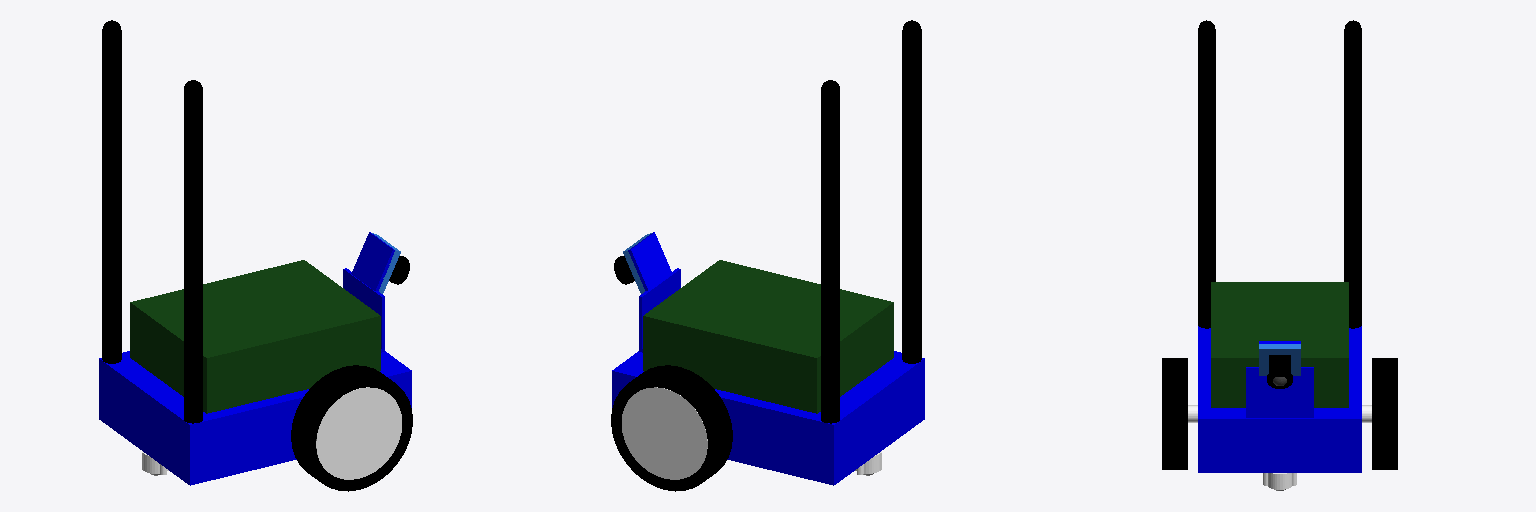
robot.urdf — jetbot:
<?xml version="1.0"?>
<robot name="jetbot">

<!-- material (color) -->
  <material name="black">
    <color rgba="0 0 0 1"/>
  </material>
  <material name="white">
    <color rgba="1.0 1.0 1.0 1.0"/>
  </material>
  <material name="blue">
    <color rgba="0 0 1 0.2"/>
  </material> 
  <material name="grey">
    <color rgba="0.66 0.66 0.66 1"/>
  </material>    
  <material name="soft_blue">
    <color rgba="0.2157 0.5294 0.9216 1"/>
  </material>
  <material name="grey_alpha">
    <color rgba="0.3 0.3 0.3 0.4"/>
  </material>   
  <material name="green">
    <color rgba="0.1 0.3 0.1 0.8"/>
  </material>     

<!-- CHASSIS (body) -->
  <link name="base_link">
    <visual>
      <origin rpy="0 0 0" xyz="0 0 0.013"/>
      <geometry>
        <box size="0.134 0.095 0.035"/>
      </geometry>
      <material name="blue"/>
    </visual>
  </link>




<!-- WHEELS -->
<!-- Left wheel -->
  <link name="lt_wheel_shaft">
    <visual>
      <geometry>
        <cylinder length="0.015" radius="0.005"/>
      </geometry>
      <material name="white"/>
      <origin rpy="1.57079632679 0 0" xyz="0 0 0"/>  -->    
    </visual>
  </link> 
  <joint name="base_lt_wheel_shaft_joint" type="fixed">
    <parent link="base_link"/>
    <child link="lt_wheel_shaft"/>
    <origin xyz="0.023 0.048 0.013"/>
  </joint>

  <link name="lt_wheelc">
    <visual>
      <origin rpy="1.57079632679 0 0"/>
      <geometry>
        <cylinder length="0.015" radius="0.026"/>
      </geometry>
      <material name="white"/>
    </visual>
  </link>
  <joint name="lt_shaft_wheelc_joint" type="fixed">
    <origin xyz="0 0.013 0"/>    
    <parent link="lt_wheel_shaft"/>
    <child link="lt_wheelc"/>
  </joint>

  <link name="lt_wheel">
    <visual>
    <origin rpy="1.57079632679 0 0"/>    
      <geometry>
        <cylinder length="0.015" radius="0.0325"/>
      </geometry>
      <material name="black"/>
    </visual>
  </link>
  <joint name="lt_wheelc_wheel_joint" type="continuous">
    <axis xyz ="0 1 0" />
    <parent link="lt_wheelc"/>
    <child link="lt_wheel"/>
    <origin xyz="0 -0.0001 0"/>  
  </joint>  


<!-- Right Wheel -->
  <link name="rt_wheel_shaft">
    <visual>
      <geometry>
        <cylinder length="0.015" radius="0.005"/>
      </geometry>
      <material name="white"/>
      <origin rpy="1.57079632679 0 0" xyz="0 0 0"/>  -->    
    </visual>
  </link> 
  <joint name="base_rt_wheel_shaft_joint" type="fixed">
    <parent link="base_link"/>
    <child link="rt_wheel_shaft"/>
    <origin xyz="0.023 -0.048 0.013"/>
  </joint>

  <link name="rt_wheelc">
    <visual>
      <origin rpy="1.57079632679 0 0"/>
      <geometry>
        <cylinder length="0.015" radius="0.026"/>
      </geometry>
      <material name="white"/>
    </visual>
  </link>
  <joint name="rt_shaft_wheelc_joint" type="fixed">
    <origin xyz="0 -0.013 0"/>    
    <parent link="rt_wheel_shaft"/>
    <child link="rt_wheelc"/>
  </joint>

  <link name="rt_wheel">
    <visual>
    <origin rpy="1.57079632679 0 0"/>    
      <geometry>
        <cylinder length="0.015" radius="0.0325"/>
      </geometry>
      <material name="black"/>
    </visual>
  </link>
  <joint name="rt_wheelc_wheel_joint" type="continuous">
    <axis xyz ="0 1 0" />
    <parent link="rt_wheelc"/>
    <child link="rt_wheel"/>
    <origin xyz="0 0.0001 0"/>  
  </joint>  



<!-- CASTER WHEELS -->
<!-- Front caster -->
  <link name="front_caster_base">
    <visual>
      <geometry>
        <cylinder length="0.01" radius="0.0075"/>
      </geometry>
      <material name="white"/>
    </visual>
  </link>
  <joint name="base_front_caster_joint" type="fixed">
    <origin xyz="0.06 0 -0.01"/>  
    <parent link="base_link"/>
    <child link="front_caster_base"/>
  </joint>

  <link name="front_caster_lt_cyl">
    <visual>
      <geometry>
        <cylinder length="0.01" radius="0.002"/>
      </geometry>
      <material name="white"/>
    </visual>
  </link>
  <joint name="front_caster_lt_cyl_joint" type="fixed">
    <origin xyz="0 0.008 0"/>  
    <parent link="front_caster_base"/>
    <child link="front_caster_lt_cyl"/>
  </joint>

  <link name="front_caster_rt_cyl">
    <visual>
      <geometry>
        <cylinder length="0.01" radius="0.002"/>
      </geometry>
      <material name="white"/>
    </visual>
  </link>
  <joint name="front_caster_rt_cyl_joint" type="fixed">
    <origin xyz="0 -0.008 0"/>  
    <parent link="front_caster_base"/>
    <child link="front_caster_rt_cyl"/>
  </joint>

  <link name="front_caster_ball">
    <visual>
      <geometry>
        <sphere radius="0.005" />
      </geometry>
      <material name="grey"/>
    </visual>
  </link>
  <joint name="front_caster_ball_joint" type="continuous">
    <axis xyz="0 1 0" rpy="0 0 0" />
    <parent link="front_caster_base"/>
    <child link="front_caster_ball"/>
    <origin xyz="0 0 -0.004"/>
  </joint>



<!-- Back caster -->
  <link name="back_caster_base">
    <visual>
      <geometry>
        <cylinder length="0.01" radius="0.0075"/>
      </geometry>
      <material name="white"/>
    </visual>
  </link>
  <joint name="base_back_caster_joint" type="fixed">
    <origin xyz="-0.06 0 -0.01"/>  
    <parent link="base_link"/>
    <child link="back_caster_base"/>
  </joint>

  <link name="back_caster_lt_cyl">
    <visual>
      <geometry>
        <cylinder length="0.01" radius="0.002"/>
      </geometry>
      <material name="white"/>
    </visual>
  </link>
  <joint name="back_caster_lt_cyl_joint" type="fixed">
    <origin xyz="0 0.008 0"/>  
    <parent link="back_caster_base"/>
    <child link="back_caster_lt_cyl"/>
  </joint>

  <link name="back_caster_rt_cyl">
    <visual>
      <geometry>
        <cylinder length="0.01" radius="0.002"/>
      </geometry>
      <material name="white"/>
    </visual>
  </link>
  <joint name="back_caster_rt_cyl_joint" type="fixed">
    <origin xyz="0 -0.008 0"/>  
    <parent link="back_caster_base"/>
    <child link="back_caster_rt_cyl"/>
  </joint>

  <link name="back_caster_ball">
    <visual>
      <geometry>
        <sphere radius="0.005" />
      </geometry>
      <material name="grey"/>
    </visual>
  </link>
  <joint name="back_caster_ball_joint" type="continuous">
    <axis xyz="0 1 0" rpy="0 0 0" />
    <parent link="back_caster_base"/>
    <child link="back_caster_ball"/>
    <origin xyz="0 0 -0.004"/>
  </joint>

<!-- ANTENNAS -->
<!-- Left Antenna -->
  <link name="lt_antenna">
    <visual>
      <origin xyz="0 0 0.095"/>
      <geometry>
        <cylinder length="0.19" radius="0.005"/>
      </geometry>
      <material name="black"/>      
    </visual>
  </link>
  <joint name="base_lt_antenna_joint" type="fixed">
    <parent link="base_link"/>
    <child link="lt_antenna"/>
    <origin xyz="-0.062 0.0425 0.0305"/>
  </joint>

  <link name="lt_antenna_top">
    <visual>
      <geometry>
        <sphere radius="0.005"/>
      </geometry> 
      <material name="black"/>
    </visual>
  </link>
  <joint name="lt_antenna_top_joint" type="fixed">
    <origin xyz="0 0 0.19"/>
    <parent link="lt_antenna"/>
    <child link="lt_antenna_top"/>
  </joint>




<!-- Right Antenna -->
  <link name="rt_antenna">
    <visual>
      <origin xyz="0 0 0.095"/>
      <geometry>
        <cylinder length="0.19" radius="0.005"/>
      </geometry>
      <material name="black"/>      
    </visual>
  </link>
  <joint name="base_rt_antenna_joint" type="fixed">
    <parent link="base_link"/>
    <child link="rt_antenna"/>
    <origin xyz="-0.062 -0.0425 0.0305"/>
  </joint>

  <link name="rt_antenna_top">
    <visual>
      <geometry>
        <sphere radius="0.005"/>
      </geometry> 
      <material name="black"/>
    </visual>
  </link>
  <joint name="rt_antenna_top_joint" type="fixed">
    <origin xyz="0 0 0.19"/>
    <parent link="rt_antenna"/>
    <child link="rt_antenna_top"/>
  </joint>




<!-- CAMERA -->
  <link name="camera_mount_base">
    <visual>
      <geometry>
        <box size="0.01 0.04 0.002"/>
      </geometry>
      <material name="blue"/>
    </visual>
  </link>
  <joint name="camera_mount_base_joint" type="fixed">
    <parent link="base_link"/>
    <child link="camera_mount_base"/>
    <origin rpy="0 0 0" xyz="0.0615 0 0.0315"/>
  </joint>

  <link name="camera_mount_over">
    <visual>
      <origin rpy="0 1.57079632679 0"/>
      <geometry>
        <box size="0.03 0.04 0.002"/>
      </geometry>
      <material name="blue"/>
    </visual>
  </link>
  <joint name="camera_mount_over_joint" type="fixed">
    <parent link="camera_mount_base"/>
    <child link="camera_mount_over"/>
    <origin xyz="0.004 0 0.016"/>
  </joint>

  <link name="camera_mount_angled">
    <visual>
      <origin rpy="0 1.57079632679 0"/>
      <geometry>
        <box size="0.025 0.025 0.002"/>
      </geometry>
      <material name="blue"/>
    </visual>
  </link>
  <joint name="camera_mount_angled_joint" type="fixed">
    <parent link="camera_mount_over"/>
    <child link="camera_mount_angled"/>
    <origin rpy="0 0.463647609 0" xyz="0.0055 0 0.025"/>
  </joint>

  <link name="camera_screen_base">
    <visual>
      <origin rpy="0 1.57079632679 0"/>    
      <geometry>
        <box size="0.025 0.025 0.004"/>
      </geometry>
      <material name="soft_blue"/>
    </visual>
  </link>
  <joint name="camera_mount_screen_joint" type="fixed">
    <parent link="camera_mount_angled"/>
    <child link="camera_screen_base"/>
    <origin rpy="0 0 0" xyz="0.0025 0 0"/>    
  </joint>

  <link name="camera_pcb_base">
    <visual>
      <origin rpy="0 1.57079632679 0"/>    
      <geometry>
        <box size="0.013 0.013 0.004"/>
      </geometry>
      <material name="black"/>
    </visual>
  </link>
  <joint name="camera_pcb_base_joint" type="fixed">
    <parent link="camera_screen_base"/>
    <child link="camera_pcb_base"/>
    <origin xyz="0.0025 0 0"/>    
  </joint>

  <link name="camera_lens_body">
    <visual>
      <origin rpy="0 1.57079632679 0"/>
      <geometry>
        <cylinder length="0.01" radius="0.006"/>
      </geometry>
      <material name="black"/>
    </visual>
  </link>
  <joint name="camera_lens_body_joint" type="fixed">
    <parent link="camera_pcb_base"/>
    <child link="camera_lens_body"/>
    <origin xyz="0.007 0 0"/>    
  </joint>

  <link name="camera_lens_body_out">
    <visual>
      <origin rpy="0 1.57079632679 0"/>
      <geometry>
        <cylinder length="0.003" radius="0.0075"/>
      </geometry>
      <material name="black"/>
    </visual>
  </link>
 <joint name="camera_lens_body_out_joint" type="fixed">
    <parent link="camera_lens_body"/>
    <child link="camera_lens_body_out"/>
    <origin xyz="0.005 0 0"/>    
  </joint>

  <link name="camera_lens">
    <visual>
      <origin rpy="0 1.57079632679 0"/>
      <geometry>
        <sphere radius="0.005" />
      </geometry>
      <material name="grey_alpha"/>
    </visual>
  </link>
 <joint name="camera_lens_joint" type="fixed">
    <parent link="camera_lens_body_out"/>
    <child link="camera_lens"/>
    <origin xyz="-0.001 0 0"/>    
  </joint>


<!-- PCB -->
<!-- Motor Driver and Jetson Nano -->
  <link name="pcb_boards">
    <visual>
      <geometry>
        <box size="0.105 0.08 0.055"/>
      </geometry>
      <material name="green"/>
    </visual>
  </link>  
  <joint name="base_nano_joint" type="fixed">
    <parent link="base_link"/>
    <child link="pcb_boards"/>
    <origin xyz="0 0 0.035"/>
  </joint>

</robot>

--- Render facts (derived) ---
Views: 3 orthographic renders of the robot side by side, from view 1: azimuth 30°, elevation 25°; view 2: azimuth 150°, elevation 25°; view 3: azimuth 270°, elevation 25°.
Robot: jetbot — 28 links, 27 joints (4 continuous, 23 fixed); root link base_link; default pose: every joint at zero.
Visible links, largest first — view 1: pcb_boards, base_link, lt_antenna, rt_antenna, rt_wheelc, rt_wheel, camera_mount_angled, camera_mount_over; view 2: pcb_boards, base_link, rt_antenna, lt_antenna, lt_wheelc, lt_wheel, camera_mount_angled, camera_mount_over; view 3: pcb_boards, base_link, lt_antenna, rt_antenna, lt_wheel, rt_wheel, camera_mount_over, camera_screen_base.
Boxes of the visible links, x1,y1,x2,y2 form: pcb_boards: (130, 260, 380, 413); base_link: (99, 351, 411, 485); lt_antenna: (102, 30, 121, 363); rt_antenna: (184, 91, 202, 423); rt_wheelc: (316, 387, 401, 479); rt_wheel: (291, 365, 412, 491); camera_mount_angled: (351, 232, 394, 290); camera_mount_over: (343, 268, 384, 348); pcb_boards: (643, 260, 893, 413); base_link: (612, 351, 924, 485); rt_antenna: (902, 30, 921, 363); lt_antenna: (821, 91, 839, 423); lt_wheelc: (622, 387, 707, 479); lt_wheel: (611, 365, 732, 491); camera_mount_angled: (628, 232, 672, 290); camera_mount_over: (639, 268, 680, 348); pcb_boards: (1211, 282, 1348, 407); base_link: (1198, 326, 1361, 472); lt_antenna: (1344, 29, 1361, 328); rt_antenna: (1198, 29, 1215, 328); lt_wheel: (1372, 358, 1397, 469); rt_wheel: (1162, 358, 1187, 469); camera_mount_over: (1246, 367, 1313, 414); camera_screen_base: (1259, 344, 1300, 375).
Bounding box of the posed robot: 0.1584 × 0.137 × 0.245 m (x, y, z).
Geometry: primitives only (box / cylinder / sphere), no mesh files.
